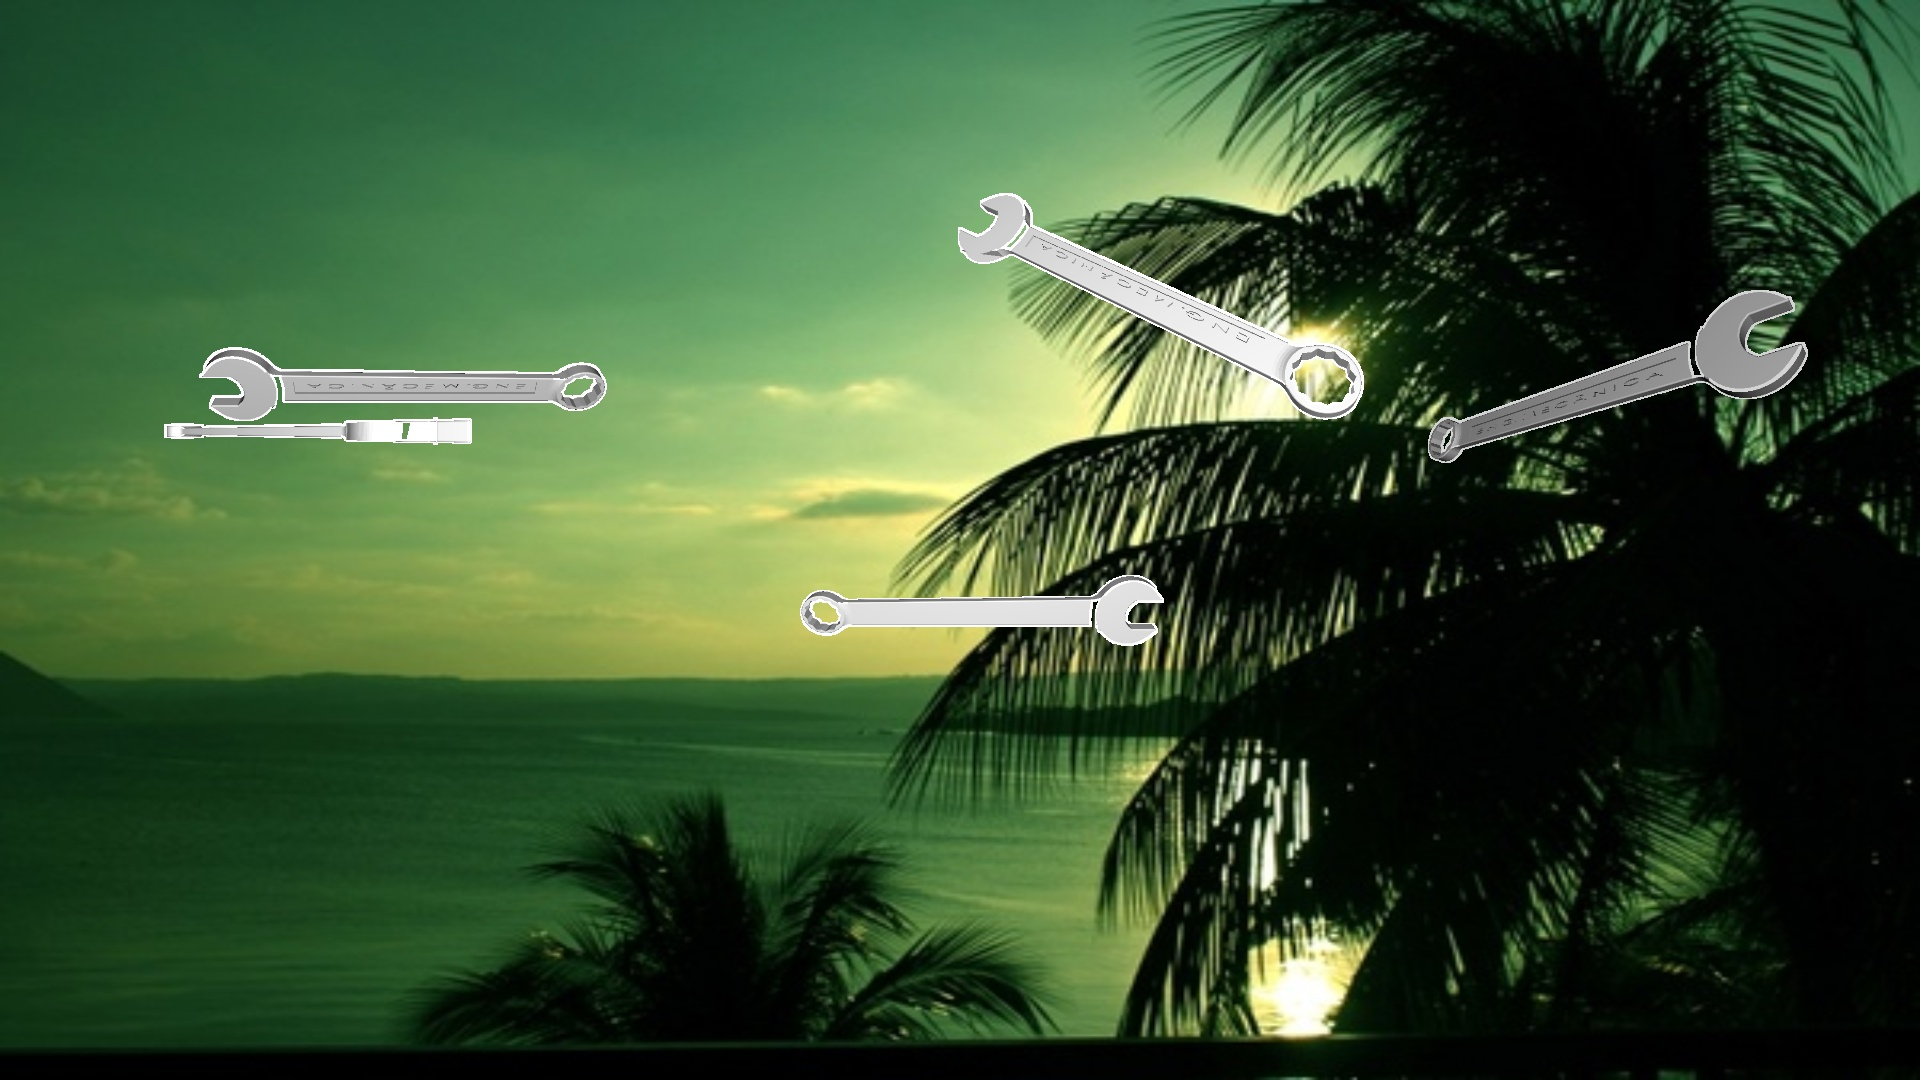Mixed Key: (957, 193, 1364, 419), (1428, 290, 1807, 462), (199, 347, 607, 419), (800, 575, 1163, 645), (164, 417, 471, 444)
